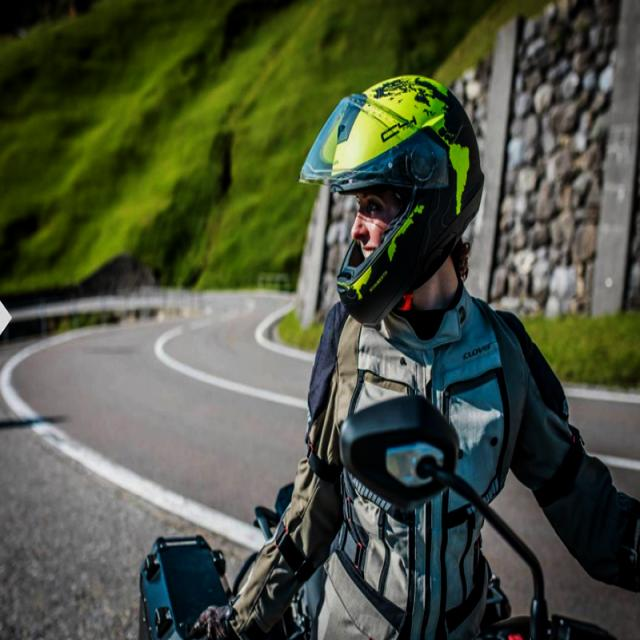helmet: (300, 75, 483, 324)
